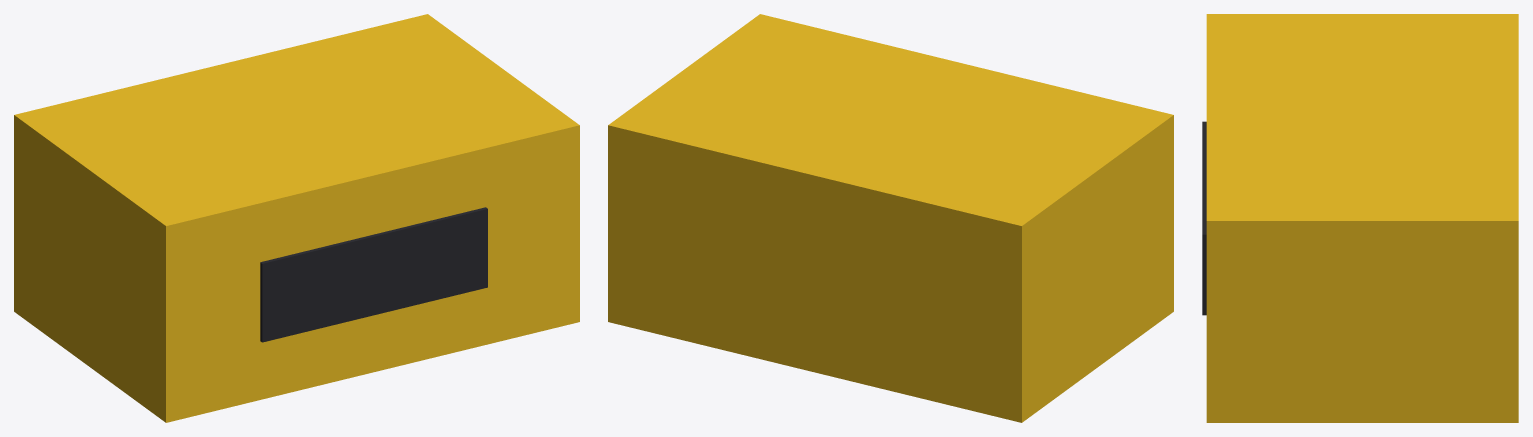
The model's file is super_wax_block.glb.
The picture shows the model from 3 angles, left to right: view 1: azimuth 30°, elevation 25°; view 2: azimuth 150°, elevation 25°; view 3: azimuth 270°, elevation 25°; orthographic projection. The views are drawn at different scales.
Parts seen in each view (by area): view 1: wax_wax_yellow, label_wax_label; view 2: wax_wax_yellow; view 3: wax_wax_yellow, label_wax_label.
Part boxes in pixels (<box>): wax_wax_yellow: <box>14,14,579,422</box>; label_wax_label: <box>260,207,487,342</box>; wax_wax_yellow: <box>608,14,1173,422</box>; wax_wax_yellow: <box>1206,14,1518,422</box>; label_wax_label: <box>1202,121,1206,315</box>.
Bounding box in the file's own units: 0.22 × 0.1 × 0.142.
